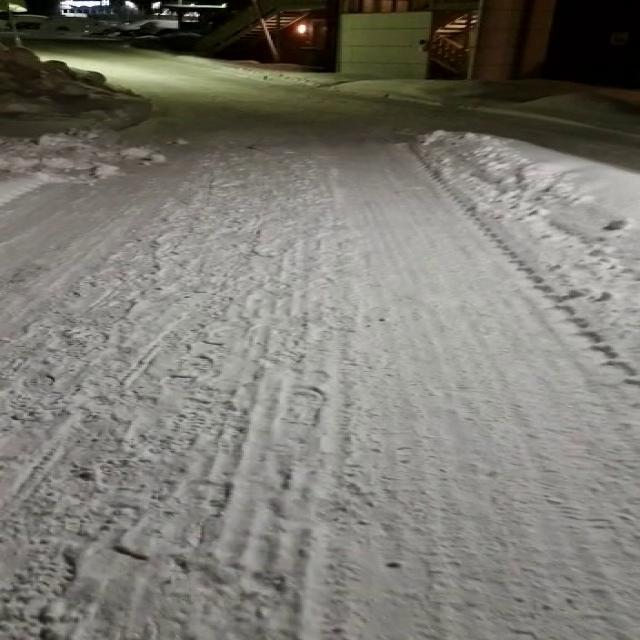path: (2, 45, 640, 640)
